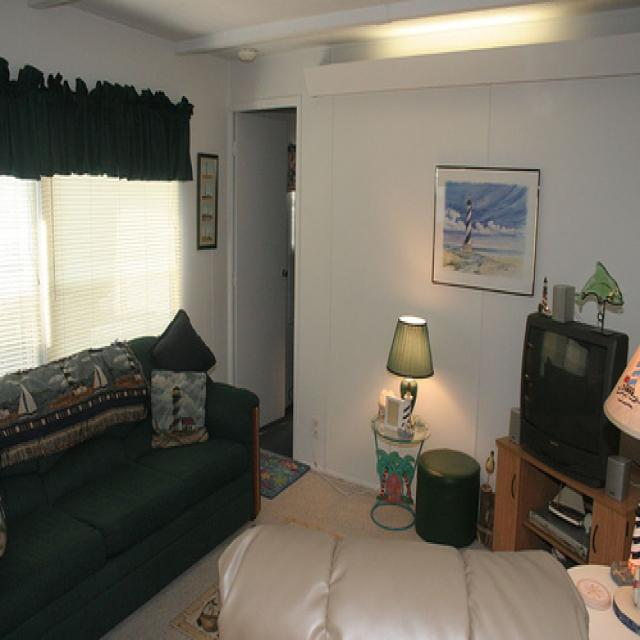sofa: (1, 334, 265, 639)
tvmonitor: (517, 305, 628, 497)
